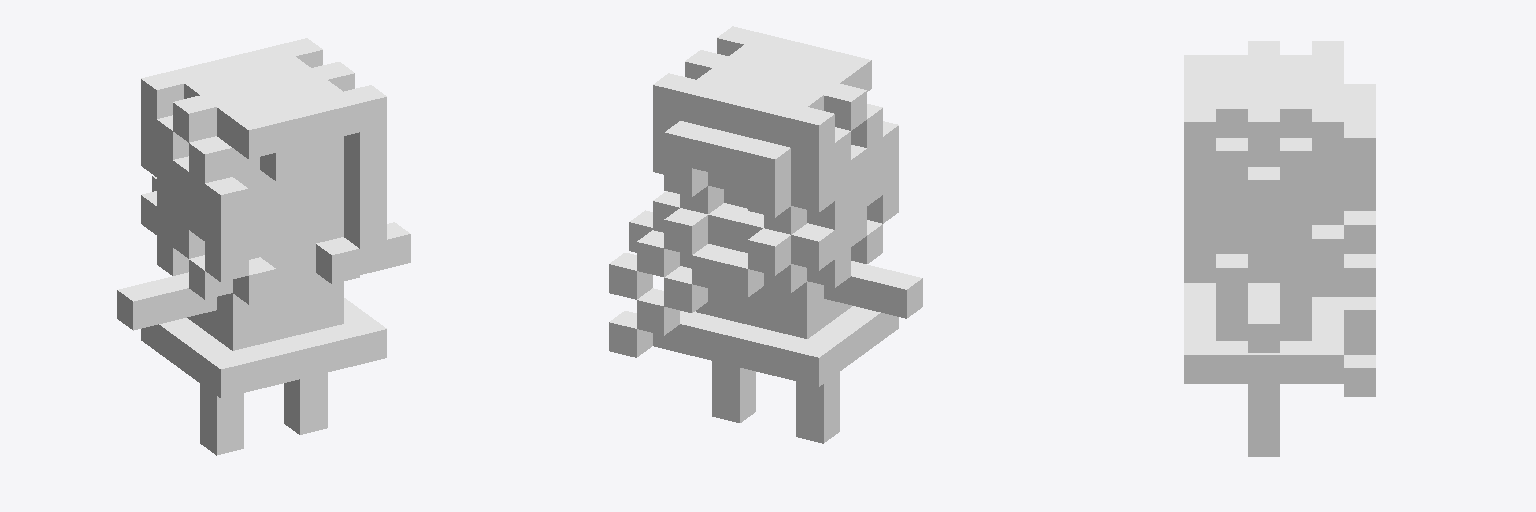
The model's file is mujer.obj.
3 renders of one model, left to right at view 1: azimuth 30°, elevation 25°; view 2: azimuth 150°, elevation 25°; view 3: azimuth 270°, elevation 25°, orthographic.
Visible parts, largest first — view 1: object 1; view 2: object 1; view 3: object 1.
Boxes of the visible parts, <box> form: object 1: <box>117,38,410,455</box>; object 1: <box>609,26,922,443</box>; object 1: <box>1184,41,1375,456</box>.
Size of the model in its own units: 1 by 1.2 by 0.6.